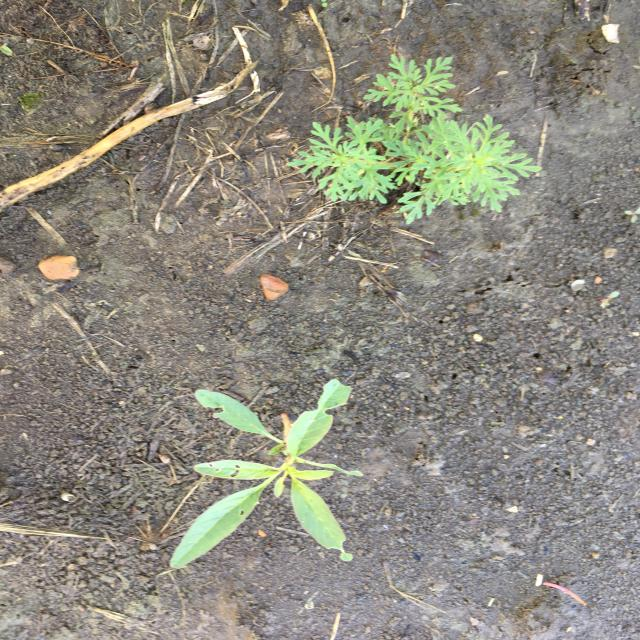Ragweed: (284, 51, 545, 226)
Waterhemp: (166, 376, 356, 570)
